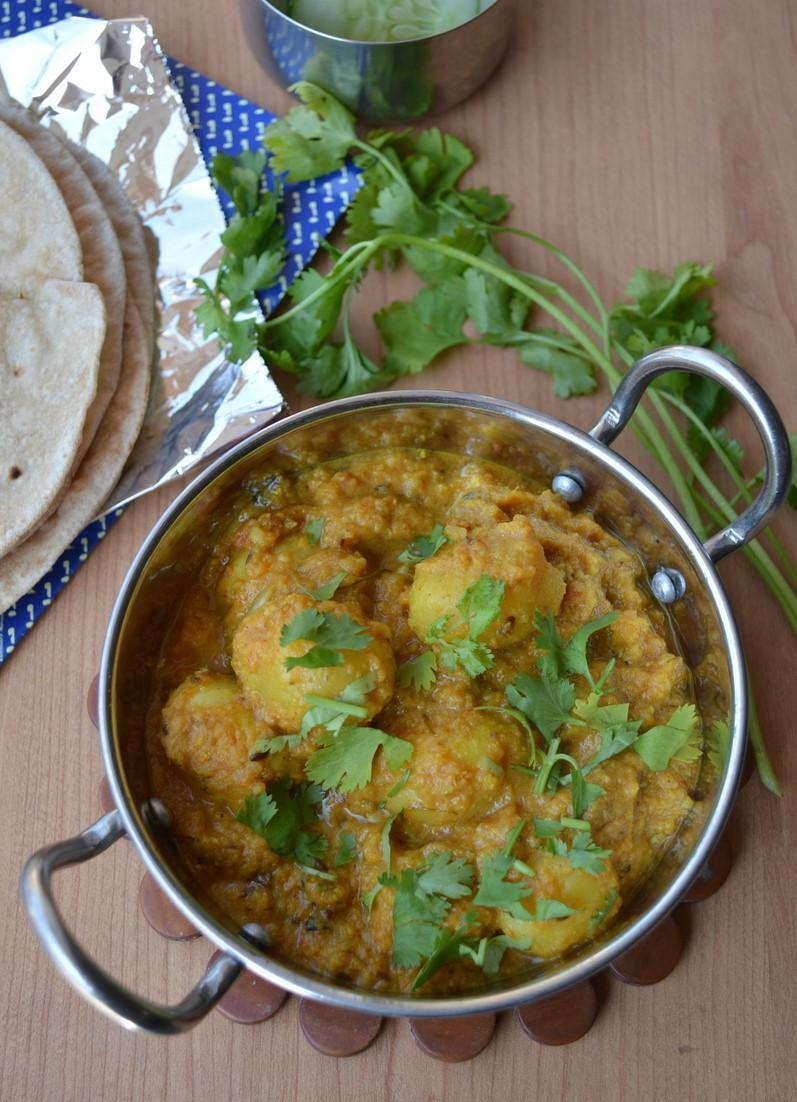DumAloo: (136, 433, 699, 973)
